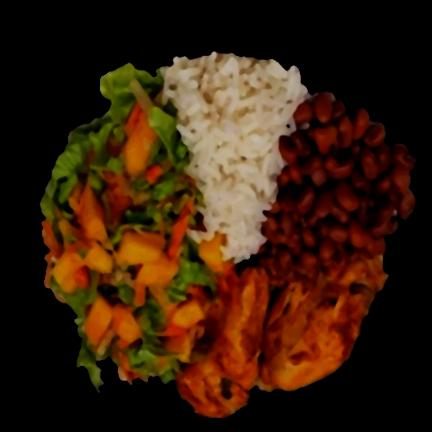beans: (258, 93, 414, 286)
chicken: (175, 257, 387, 418)
rice: (163, 53, 306, 263)
salad: (40, 64, 162, 221), (130, 118, 201, 233), (170, 250, 208, 300)
